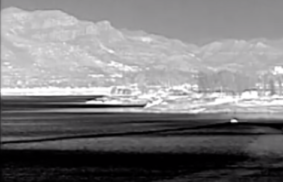Target: (231, 119, 237, 121)
